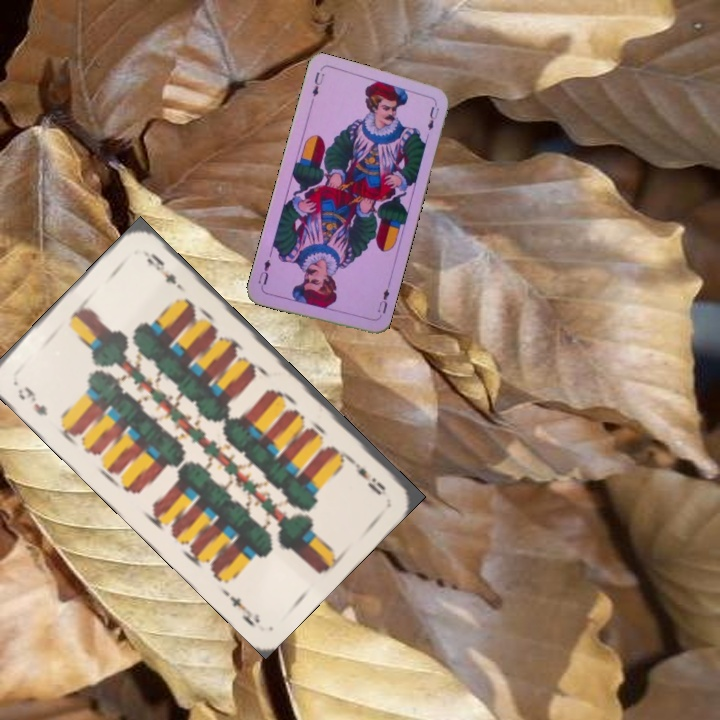E9: (343, 452, 389, 498), (13, 382, 51, 419)
EU: (373, 281, 392, 321), (308, 68, 327, 99)
